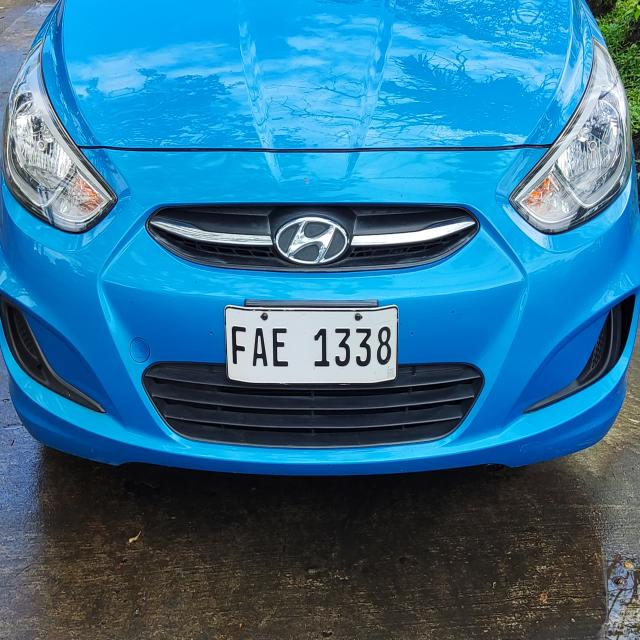plate: (223, 303, 400, 387)
